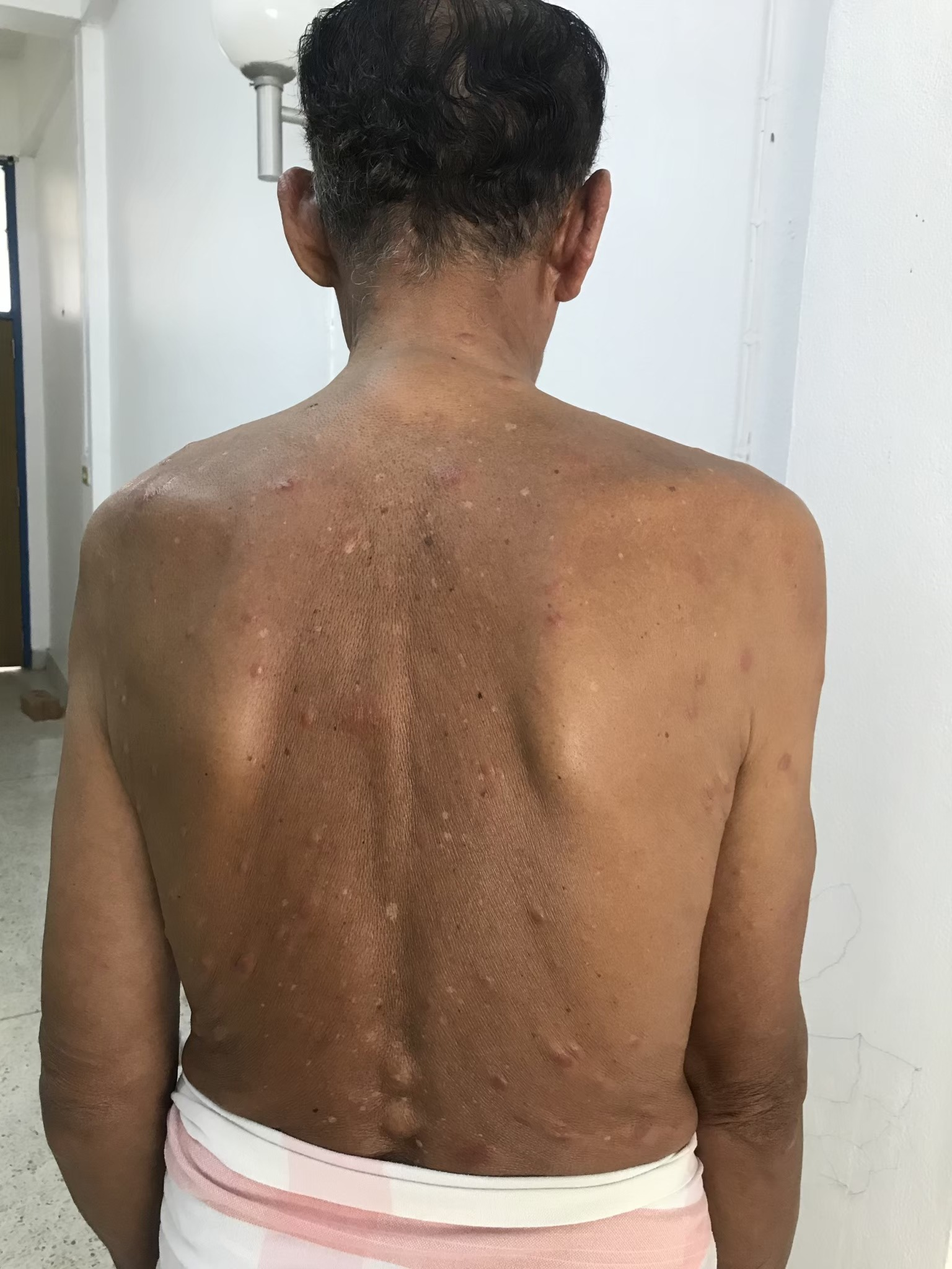Leprosy: (363, 1037, 477, 1150), (315, 514, 397, 589), (272, 810, 350, 877), (431, 465, 501, 533), (423, 802, 497, 866), (369, 885, 435, 950), (537, 1027, 604, 1089), (513, 889, 575, 949), (283, 693, 353, 744), (532, 599, 585, 659), (256, 457, 318, 507), (225, 944, 264, 991)
